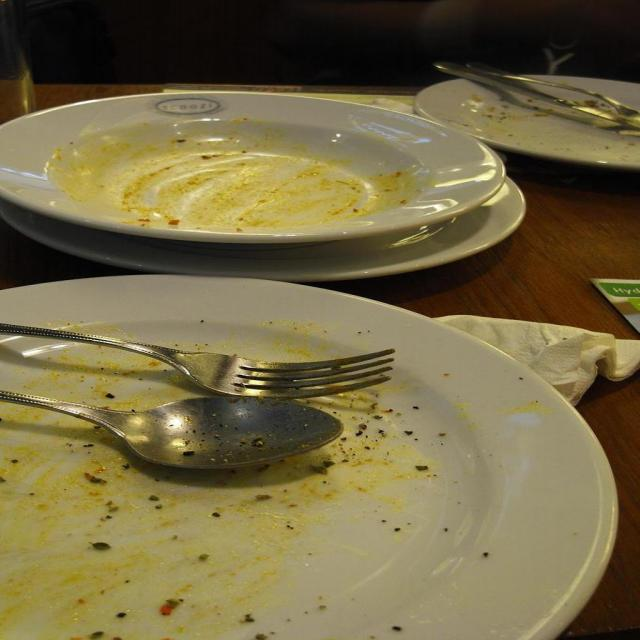non-organic waste: (10, 274, 640, 640), (0, 70, 541, 274)
